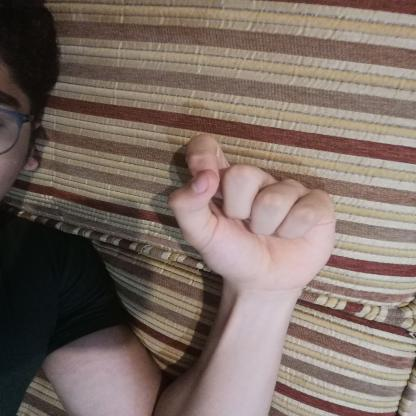FAA: (158, 122, 346, 302)
